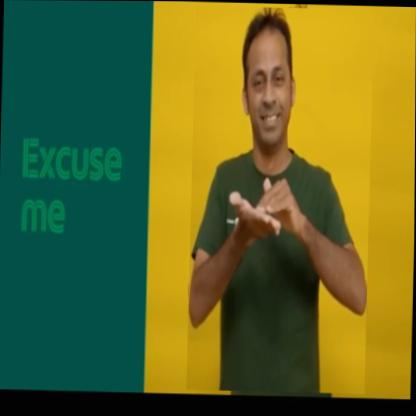ExcuseMe: (187, 6, 374, 394)
